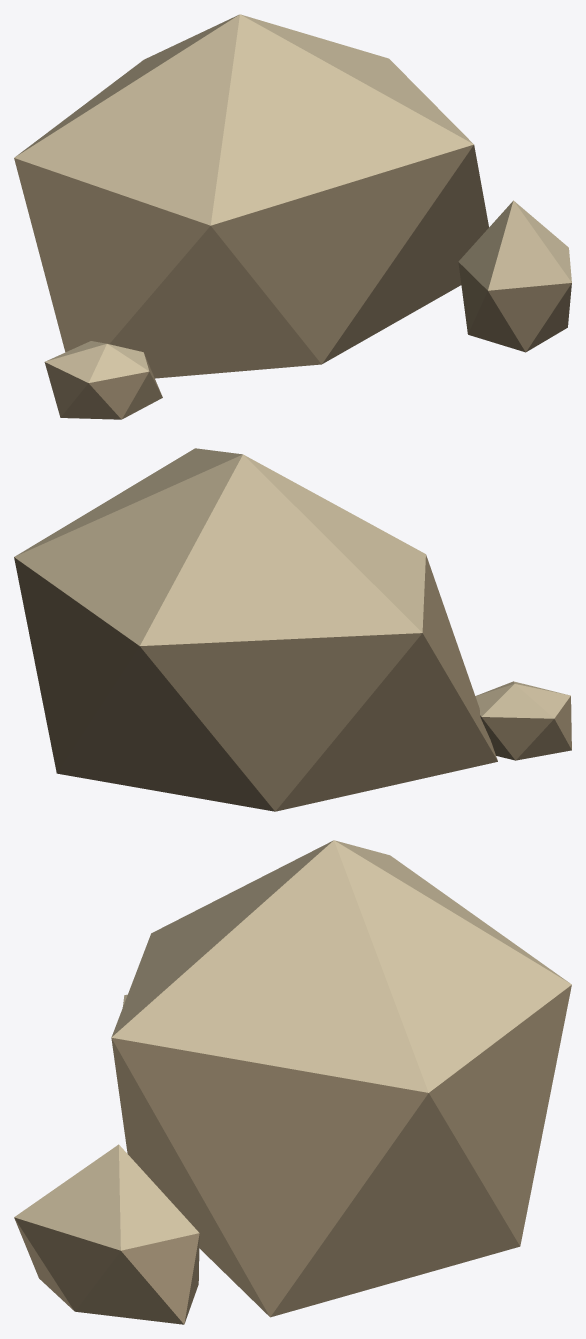
File: rockA.glb
3 views of the same model, one above another, from view 1: azimuth 30°, elevation 25°; view 2: azimuth 150°, elevation 25°; view 3: azimuth 270°, elevation 25° (orthographic). The views are drawn at different scales.
Parts seen in each view (by area): view 1: rockA; view 2: rockA; view 3: rockA.
Part boxes in pixels (left/top/right/bottom): rockA: left=14, top=14, right=571, bottom=419; rockA: left=14, top=448, right=571, bottom=811; rockA: left=14, top=840, right=571, bottom=1324.
Bounding box in the file's own units: 0.5403 × 0.2995 × 0.4409.
